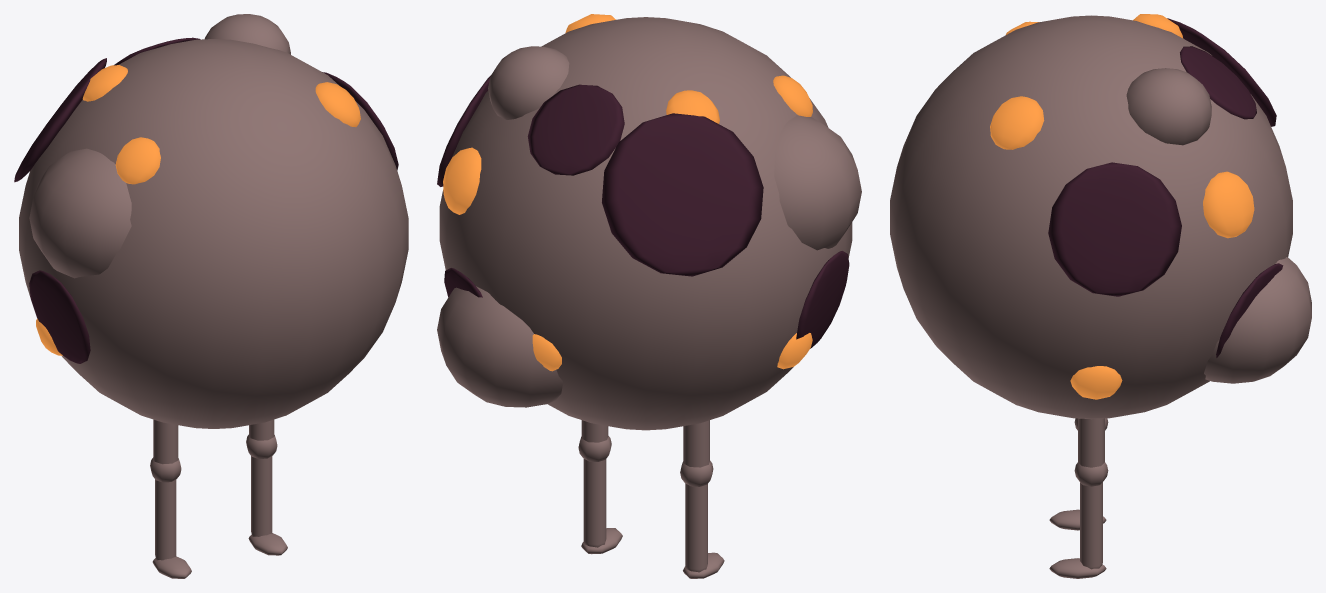
Rendered from boursoufle.glb.
3 renders of one model, left to right at view 1: azimuth 30°, elevation 25°; view 2: azimuth 150°, elevation 25°; view 3: azimuth 270°, elevation 25°, orthographic. The views are drawn at different scales.
Parts seen in each view (by area): view 1: sac, knee_1, knee_0, leg_0; view 2: sac, knee_1, knee_0, leg_0; view 3: sac, knee_1, leg_1, knee_0.
Part boxes in pixels (x1,y1,x2,y2): sac: (14, 14, 408, 428); knee_1: (246, 434, 287, 555); knee_0: (150, 457, 191, 578); leg_0: (153, 419, 178, 464); sac: (437, 14, 861, 430); knee_1: (578, 436, 622, 554); knee_0: (680, 460, 724, 578); leg_0: (683, 420, 709, 467); sac: (890, 14, 1311, 419); knee_1: (1049, 462, 1108, 578); leg_1: (1078, 418, 1104, 467); knee_0: (1049, 418, 1108, 530).
Bounding box in the file's own units: 0.9144 × 1.22 × 0.901.
